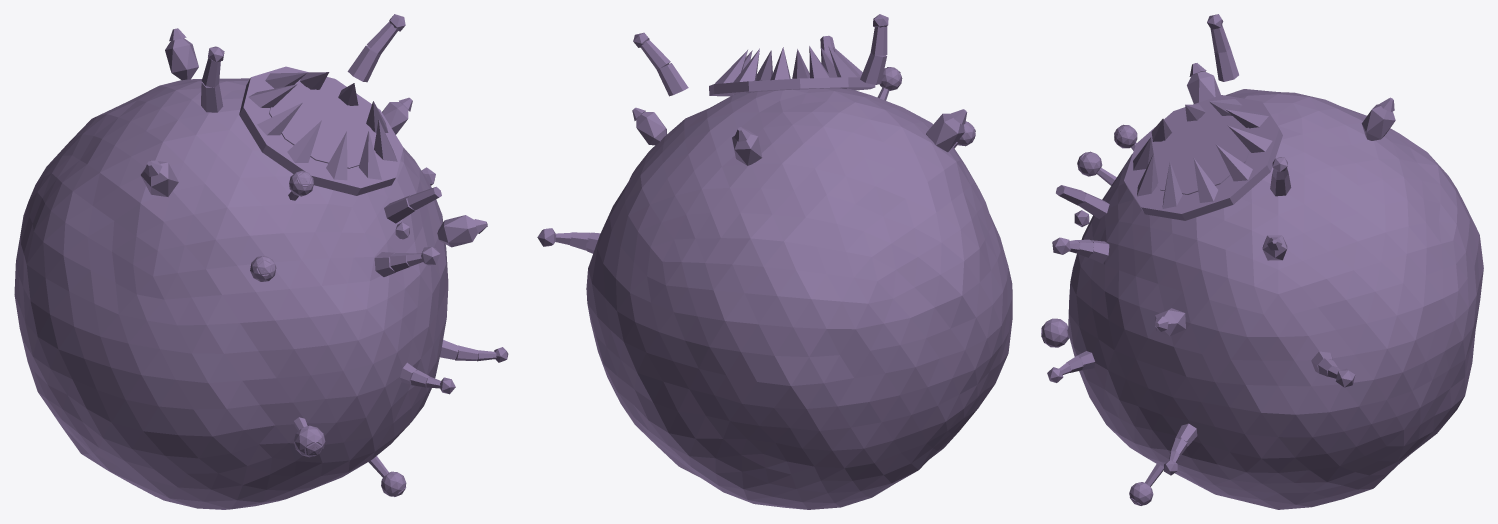
File: Alien_04.fbx
3 views of the same model, side by side, from view 1: azimuth 30°, elevation 25°; view 2: azimuth 150°, elevation 25°; view 3: azimuth 270°, elevation 25° (orthographic). The views are drawn at different scales.
Parts seen in each view (by area): view 1: Alien_04; view 2: Alien_04; view 3: Alien_04.
Boxes of the visible parts, x1=… form: Alien_04: x1=14, y1=14, x2=508, y2=509; Alien_04: x1=537, y1=14, x2=1012, y2=509; Alien_04: x1=1041, y1=14, x2=1483, y2=509.
Bounding box in the file's own units: 6.8 × 7.17 × 6.42.
